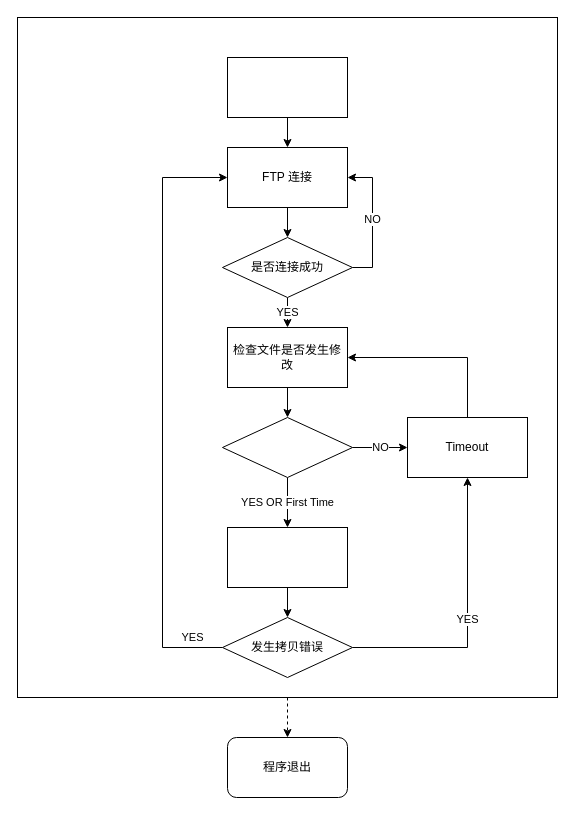
The diagram is 575 pixels wide and 815 high, and some of its shapes have lost their labels. The shapes that lost their labels are listed below. From the top down, each one's centre as x and y in pixels, then its label:
point (287, 87): FTP 启动
point (287, 447): 发生修改
point (287, 557): 拷贝到 FTP Server
